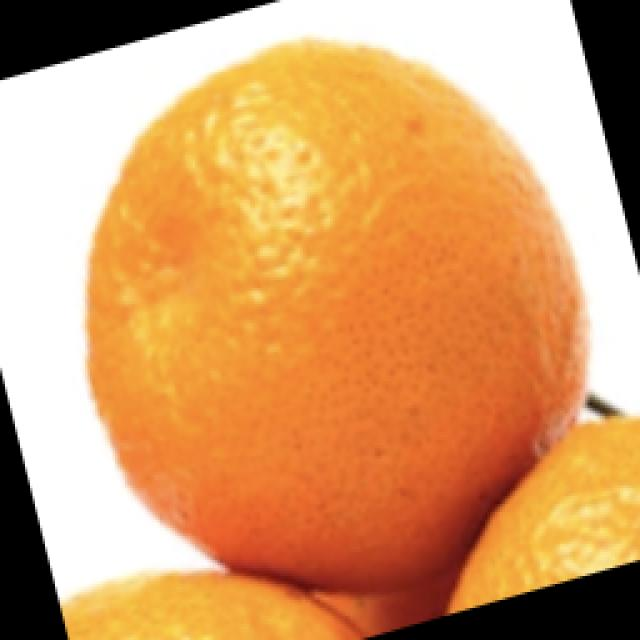fresh: (61, 21, 605, 640)
